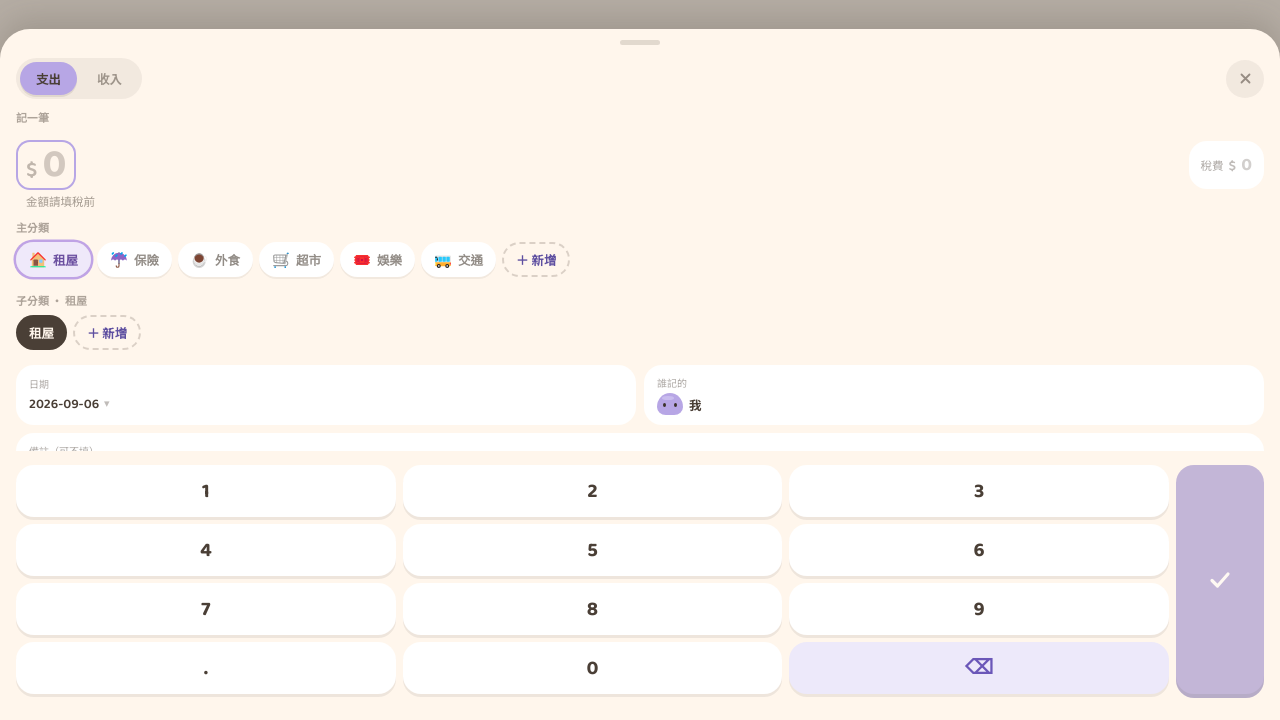
Test: EntrySheet 的金額 › 數字鍵打在金額欄
Click the button "1" at (206, 491), box [16, 465, 396, 517]
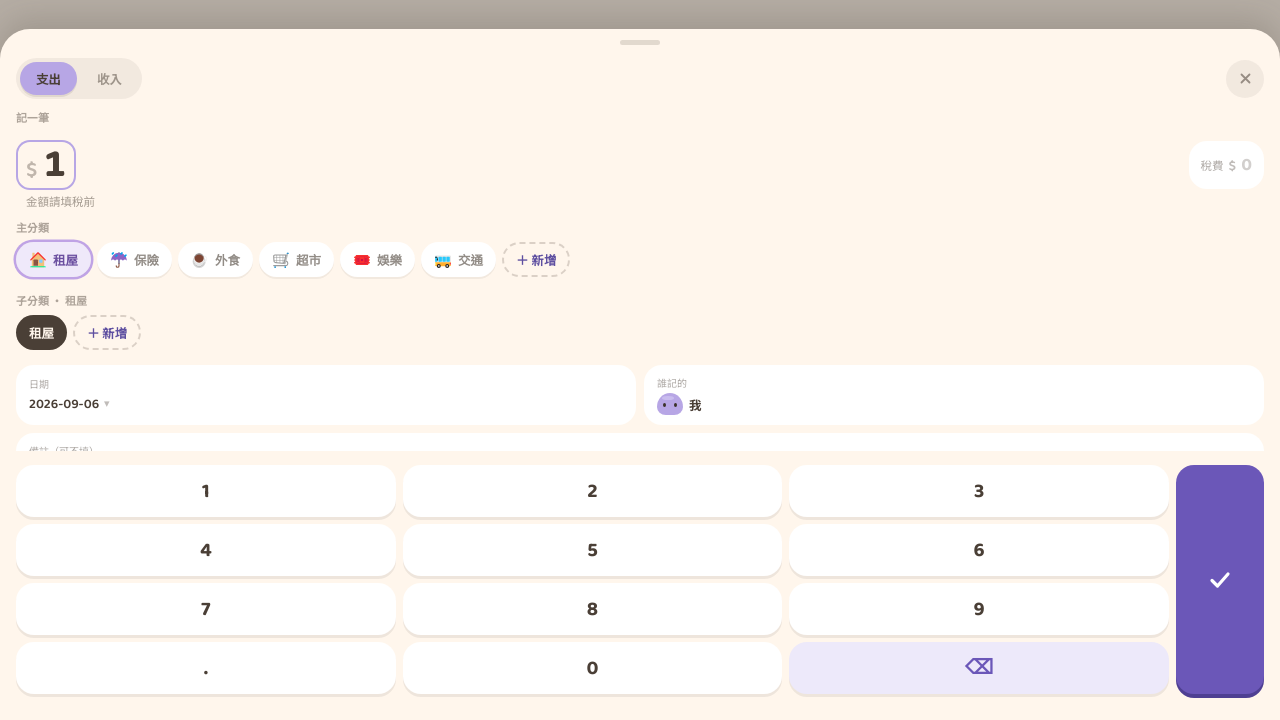
Click the button "2" at (593, 491), box [403, 465, 782, 517]
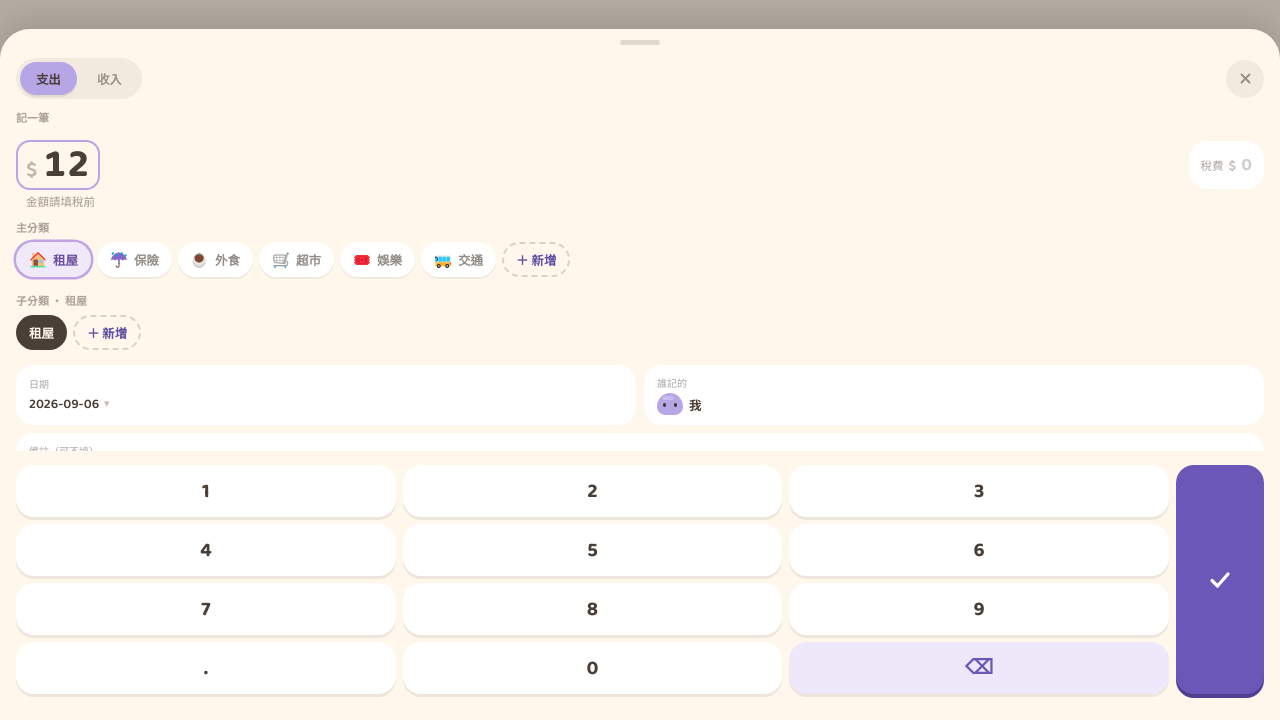
Click the button "3" at (979, 491), box [789, 465, 1169, 517]
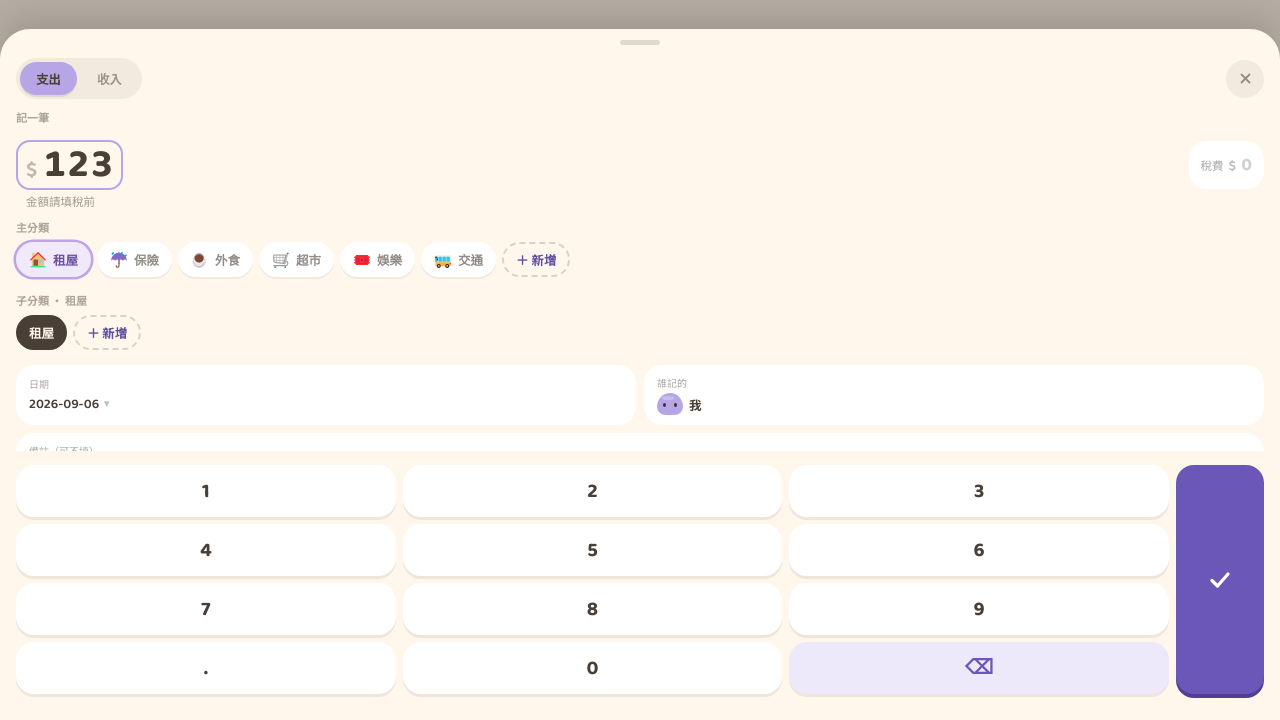
Expected: the button with test id "field-amount" shows "123", [16, 140, 123, 190]
